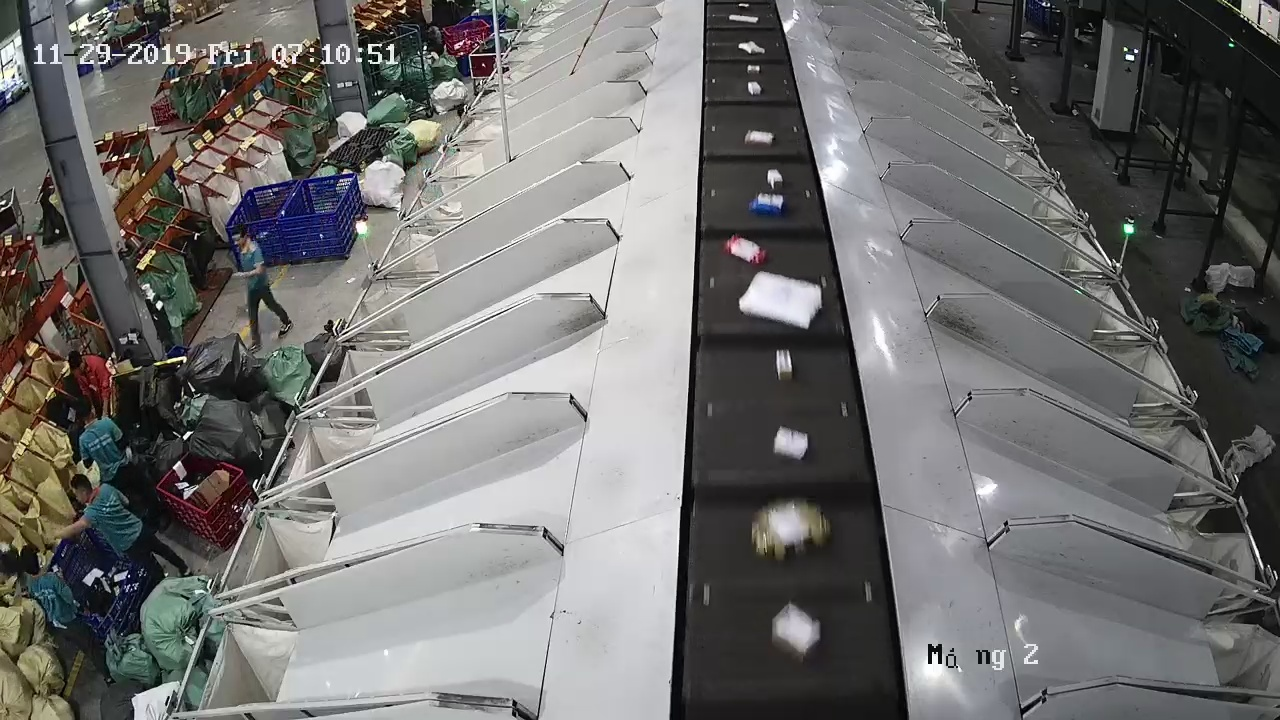parcel: (751, 496, 832, 564), (738, 271, 822, 330), (772, 603, 822, 663), (723, 233, 768, 268), (772, 425, 808, 462), (748, 191, 789, 218), (775, 349, 793, 382), (744, 129, 774, 148), (767, 169, 783, 189)
